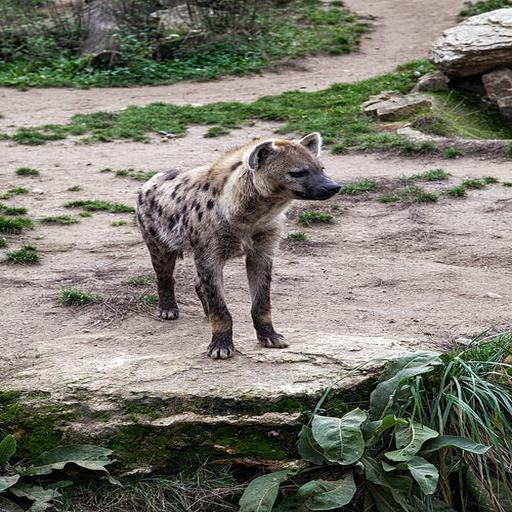Hyena: (137, 133, 340, 356)
